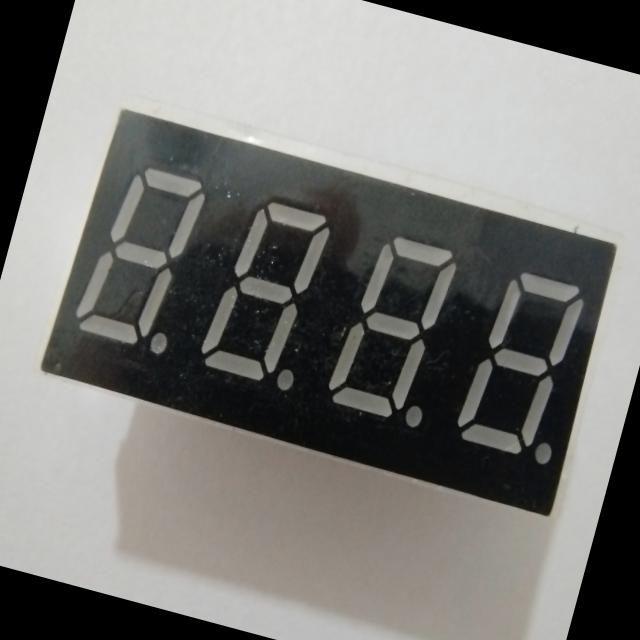7_segments_4_digits: (35, 87, 635, 526)
